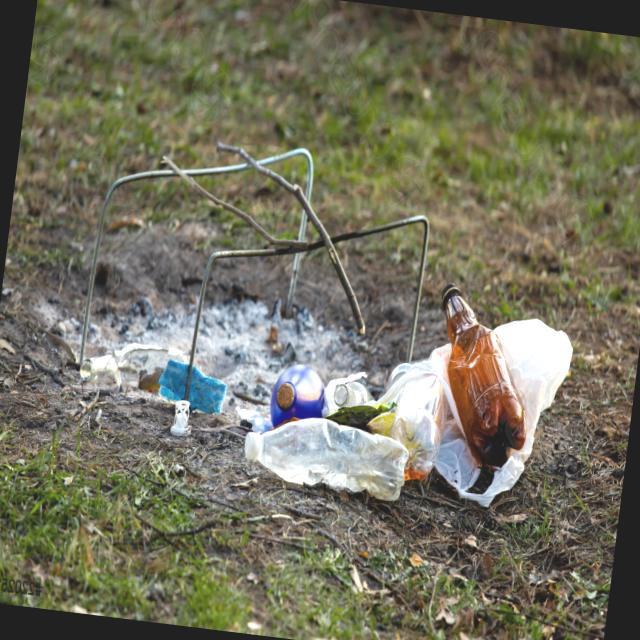garbage: (63, 232, 584, 528)
